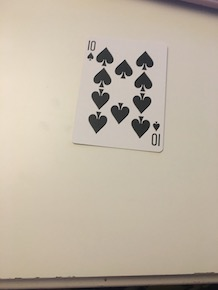TenOfSpades: (71, 33, 172, 156)
